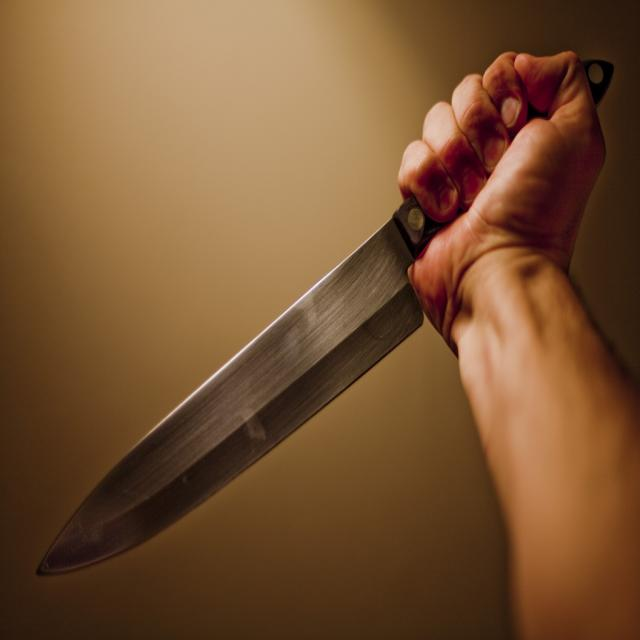knife: (34, 50, 613, 588)
